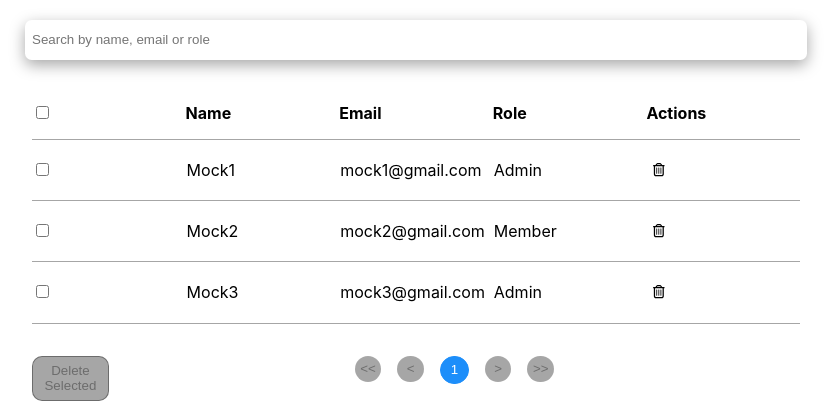
Delete All users › Selected Users should be deleted on Delete Selected button click
Expected: the button with test id "delete-selected" is disabled, x1=32 y1=356 x2=109 y2=401
Expected: the number of rows with test id "user-row" is 3, x1=32 y1=139 x2=800 y2=200; x1=32 y1=200 x2=800 y2=262; x1=32 y1=262 x2=800 y2=323
What coordinates should you click on to do the following:
click the checkbox with test id "select-user" in the row of "mock1@gmail.com"
I would click on:
 (42, 169)
Its box is x1=36 y1=163 x2=49 y2=176.
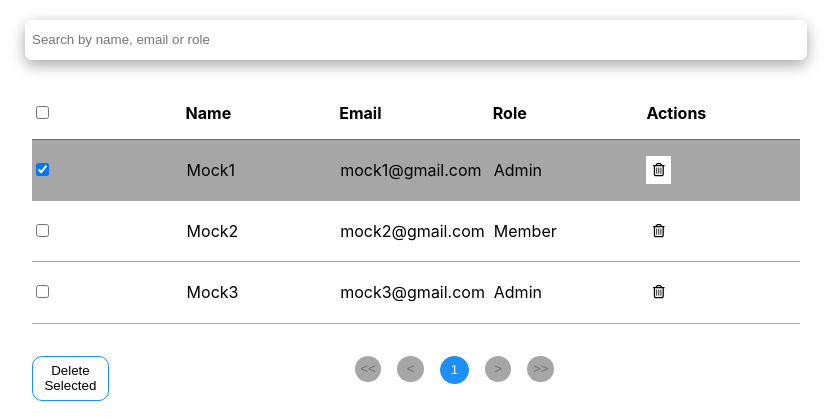
Result: the button with test id "delete-selected" is enabled
What coordinates should you click on to do the following:
click the button with test id "delete-selected"
I would click on:
 (70, 378)
Its box is x1=32 y1=356 x2=109 y2=401.
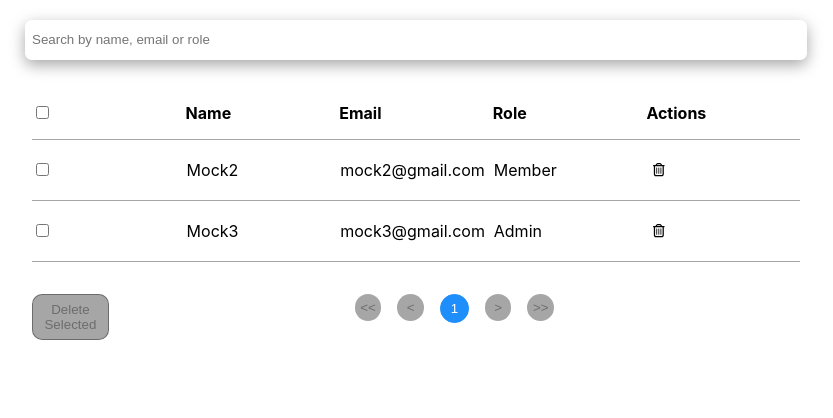
Result: the number of rows with test id "user-row" is 2 at x1=32 y1=139 x2=800 y2=200; x1=32 y1=200 x2=800 y2=262
